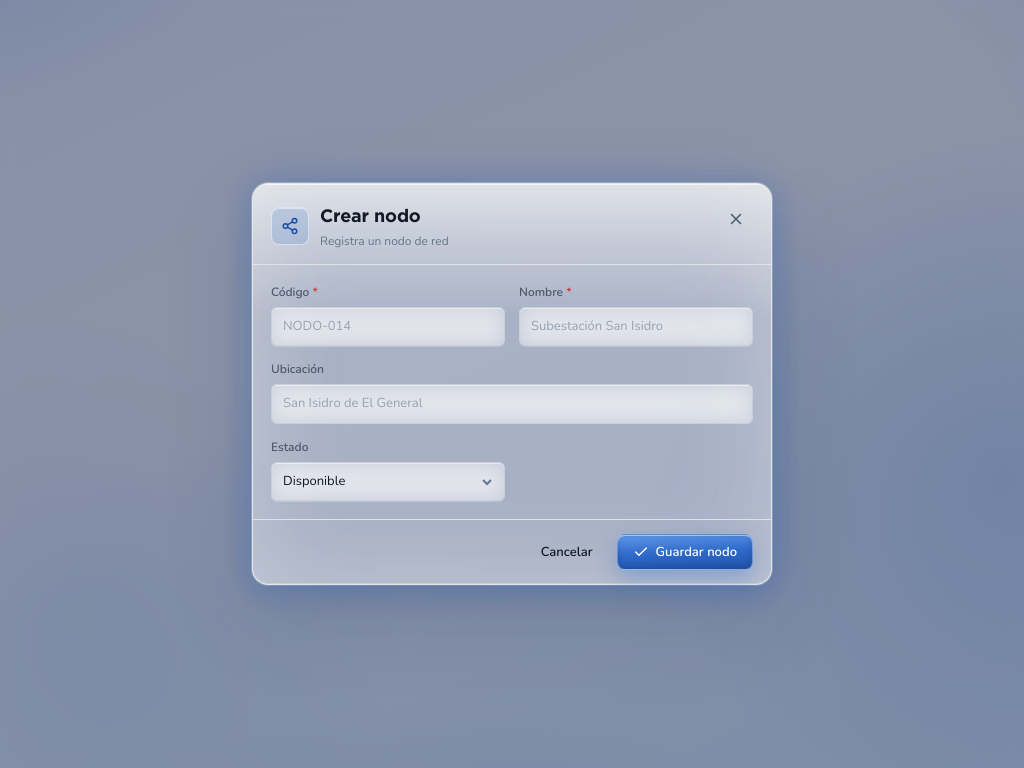
Test case: NodeFormModal › un codigo duplicado (409) se muestra como error en el campo Codigo
Type "NODO-DUP" into the field with placeholder "NODO-014" at (388, 327), box [271,307,505,346]
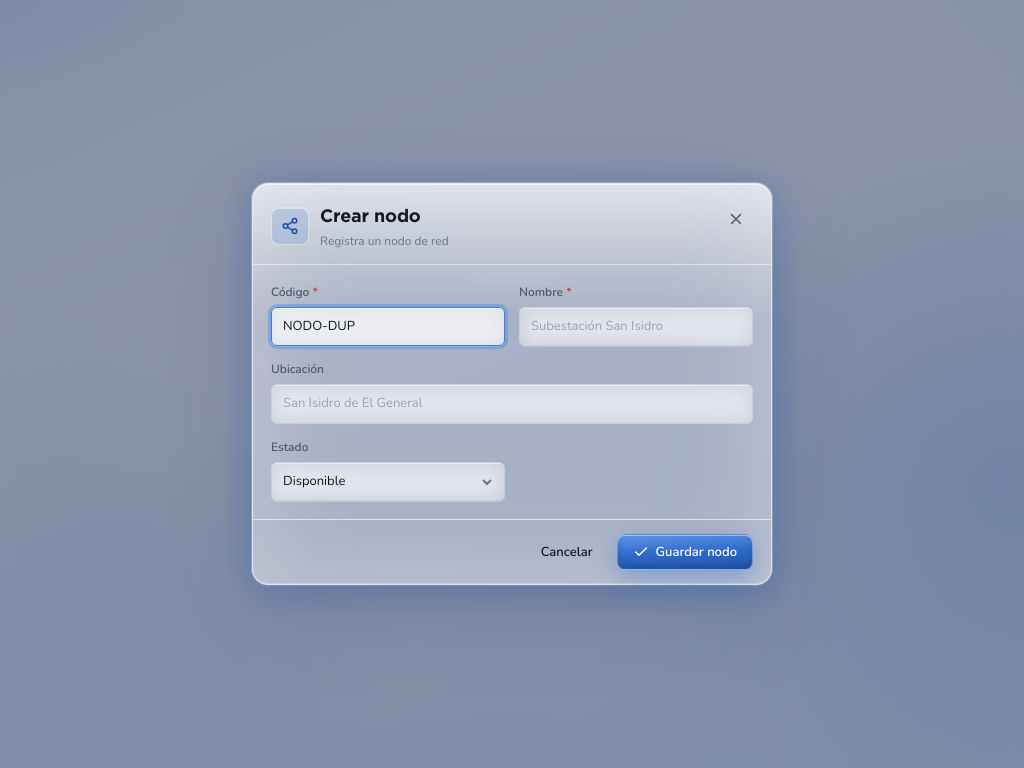
Type "Nodo repetido" into the field with placeholder "Subestación San Isidro" at (636, 327), box [519,307,753,346]
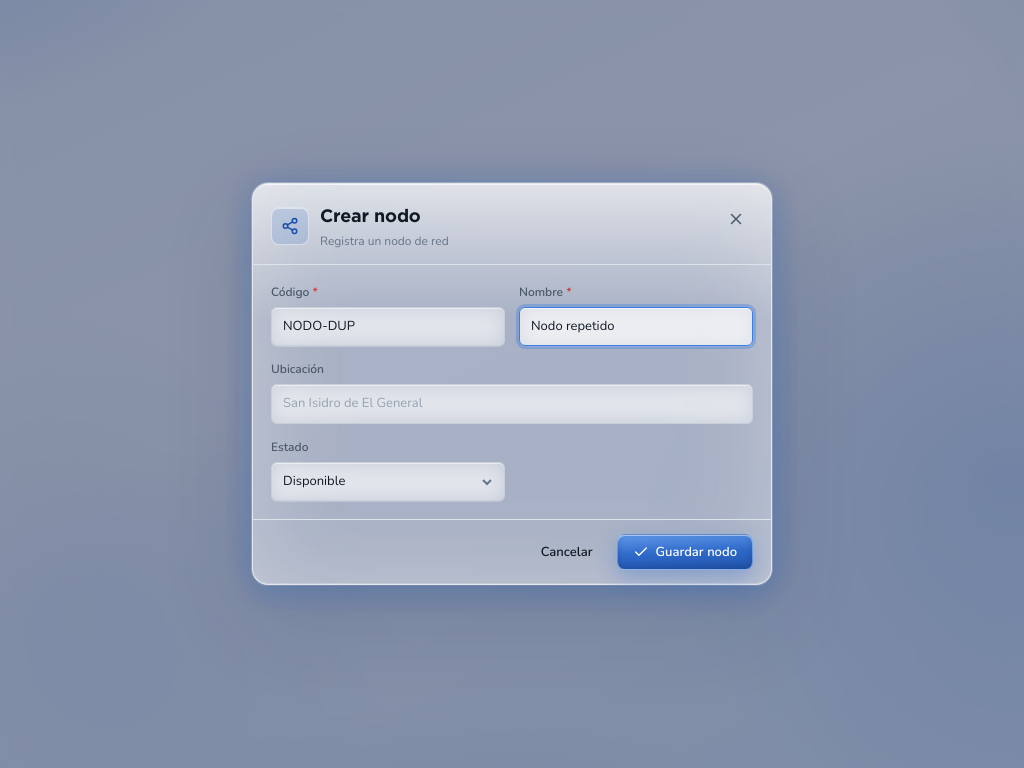
Click the button "Guardar nodo" at (685, 552), box [616,534,753,570]
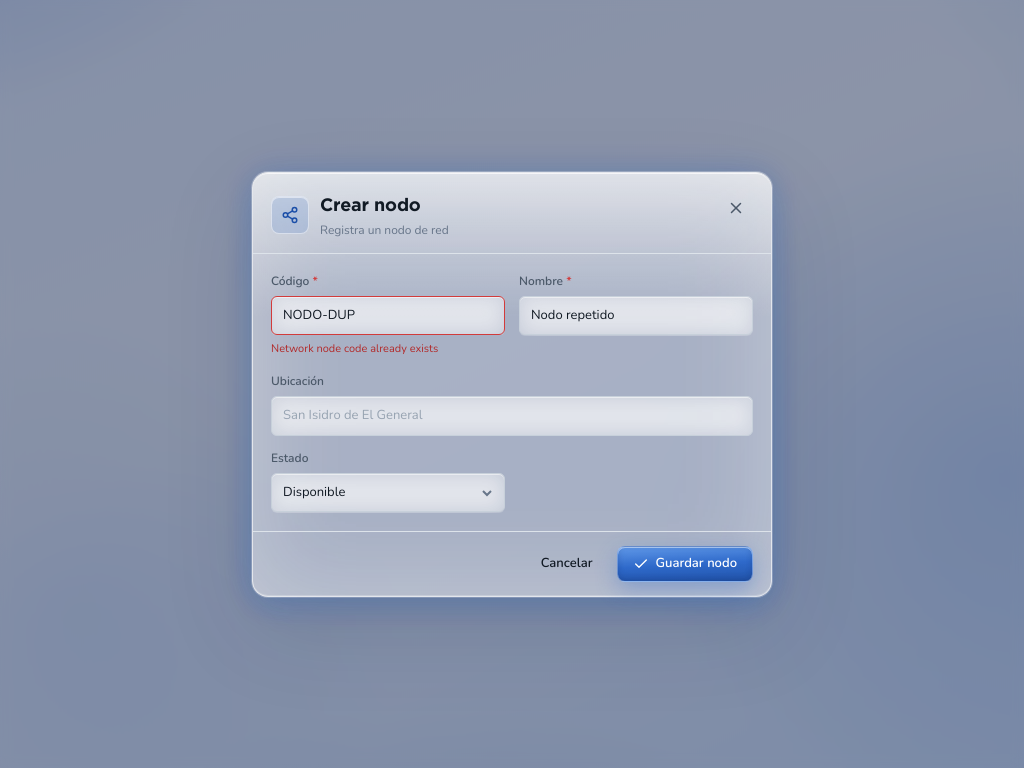
Check: the text "Network node code already exists" is shown, box [271,341,438,356]
